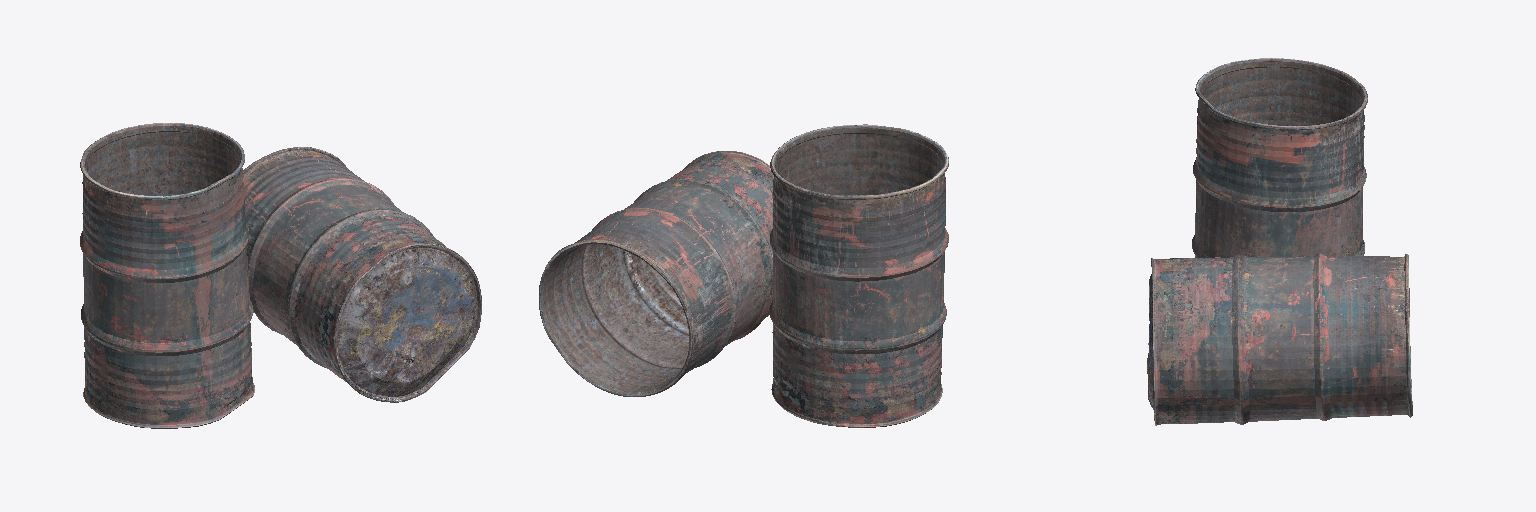
3 renders of one model, left to right at view 1: azimuth 30°, elevation 25°; view 2: azimuth 150°, elevation 25°; view 3: azimuth 270°, elevation 25°, orthographic.
Visible parts, largest first — view 1: sud_low_Mesh.008; view 2: sud_low_Mesh.008; view 3: sud_low_Mesh.008.
Boxes of the visible parts, x1=… form: sud_low_Mesh.008: x1=80, y1=123, x2=481, y2=428; sud_low_Mesh.008: x1=539, y1=124, x2=948, y2=427; sud_low_Mesh.008: x1=1147, y1=58, x2=1412, y2=425.
Size of the model in its own units: 7.2 by 5.01 by 4.99.
Materials: 1 (1 with a texture image).